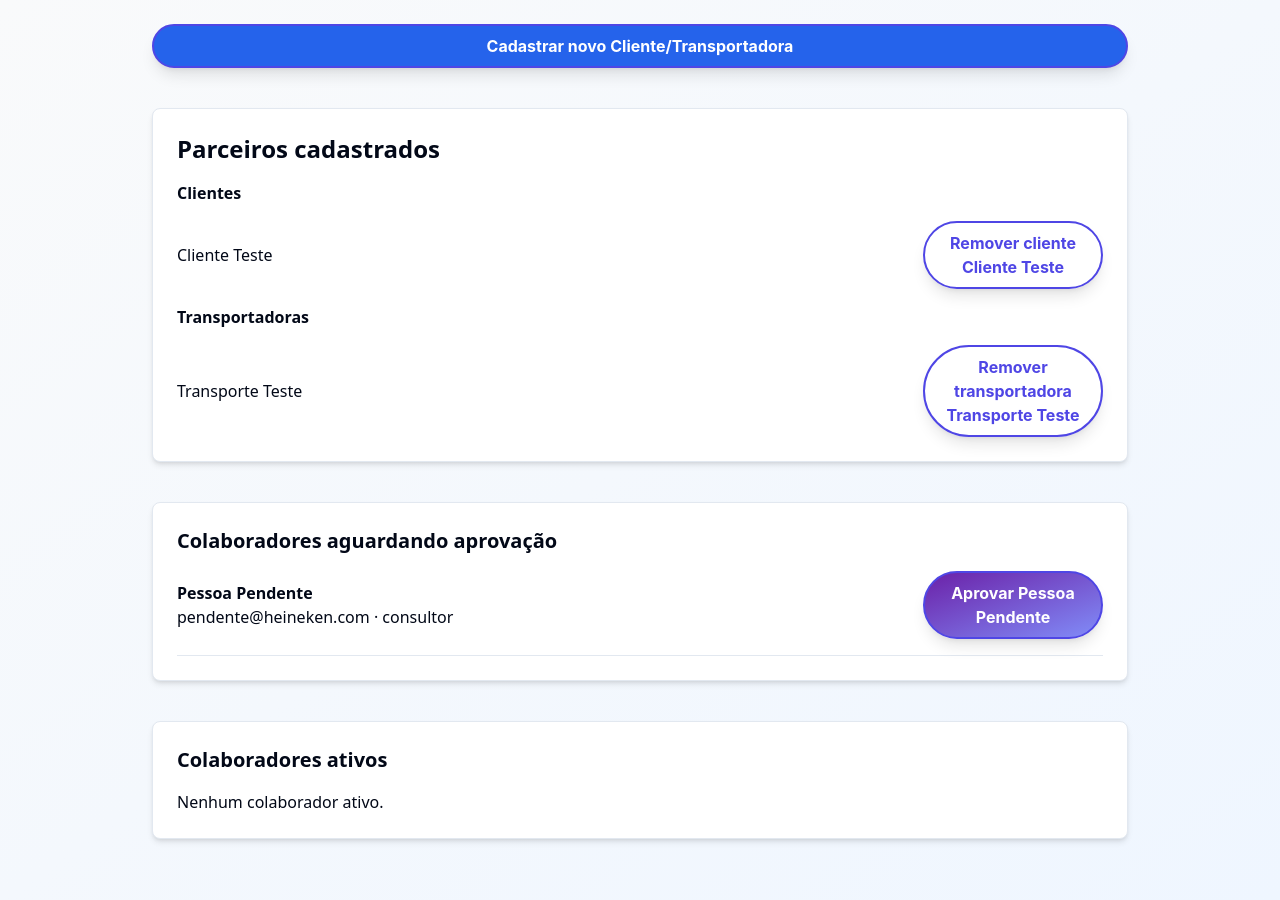
Test: fluxo principal com componentes reais › aprova um cadastro pendente e atualiza as listas após a API
Click the button "Aprovar Pessoa Pendente": (1013, 605) 923,571 -> 1103,639
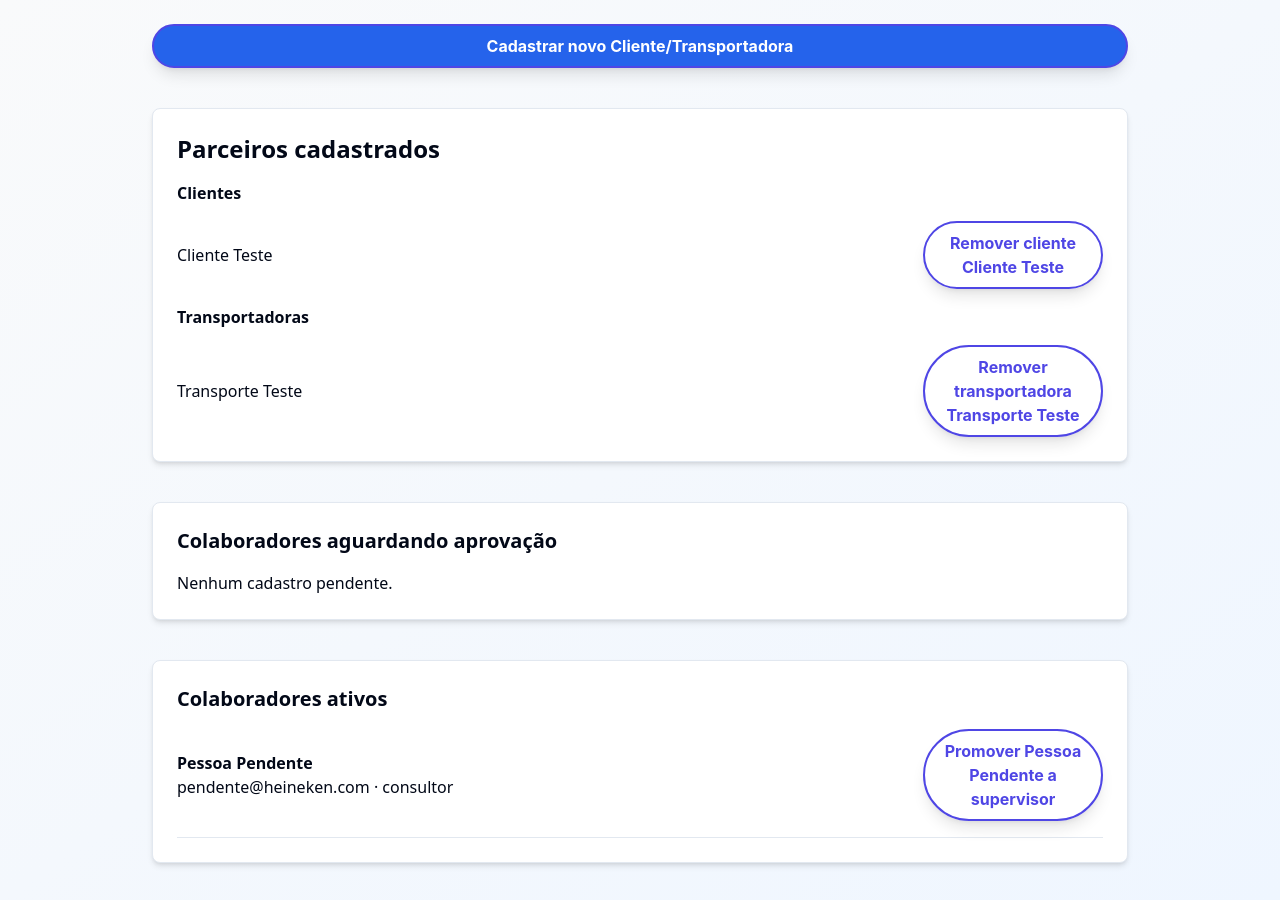
Now the text "Nenhum cadastro pendente." is shown, box 177,572 -> 393,594
Now the button "Promover Pessoa Pendente a supervisor" is shown, box 923,729 -> 1103,821
